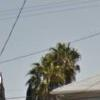Palm tree: (20, 35, 80, 95)
